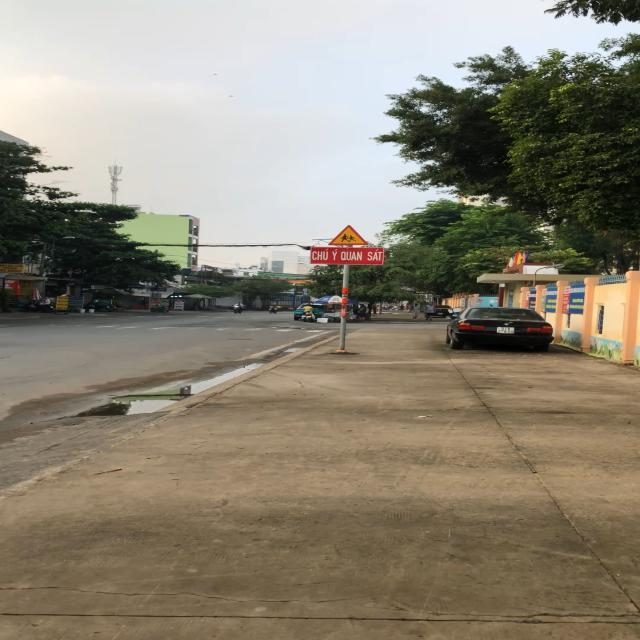Bien bao tre em: (328, 224, 368, 246)
